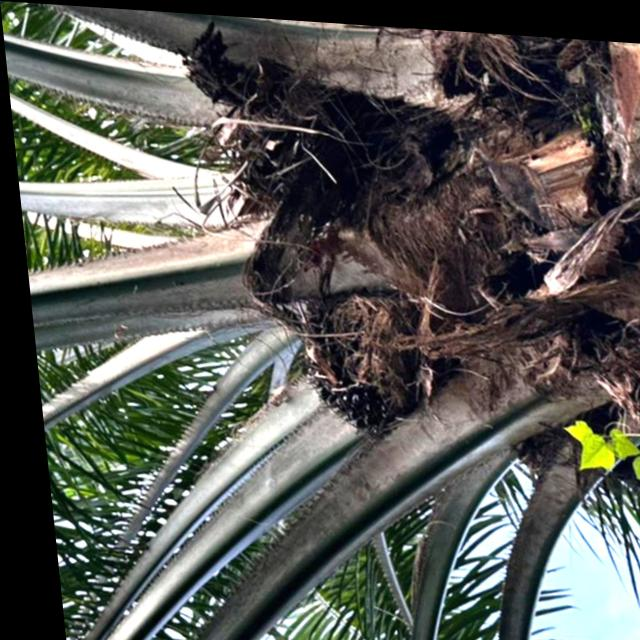unripe: (281, 265, 473, 460)
